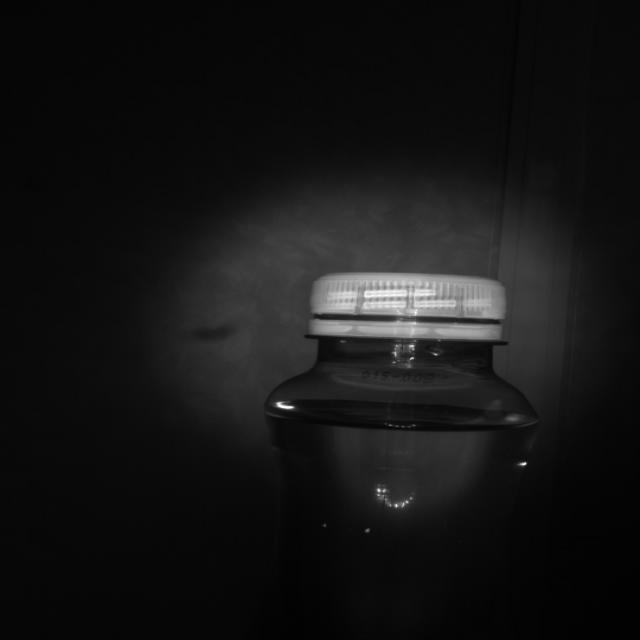Not Good: (308, 270, 507, 342)
